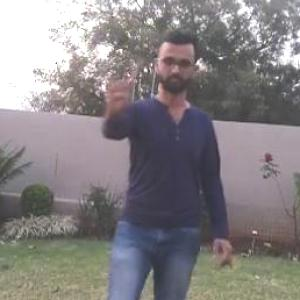takeoff-hand: (93, 69, 138, 114)
